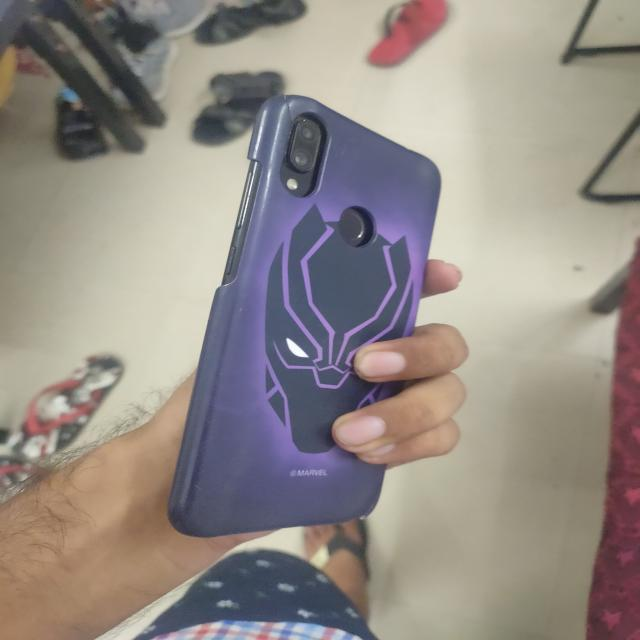Phone: (164, 93, 446, 541)
